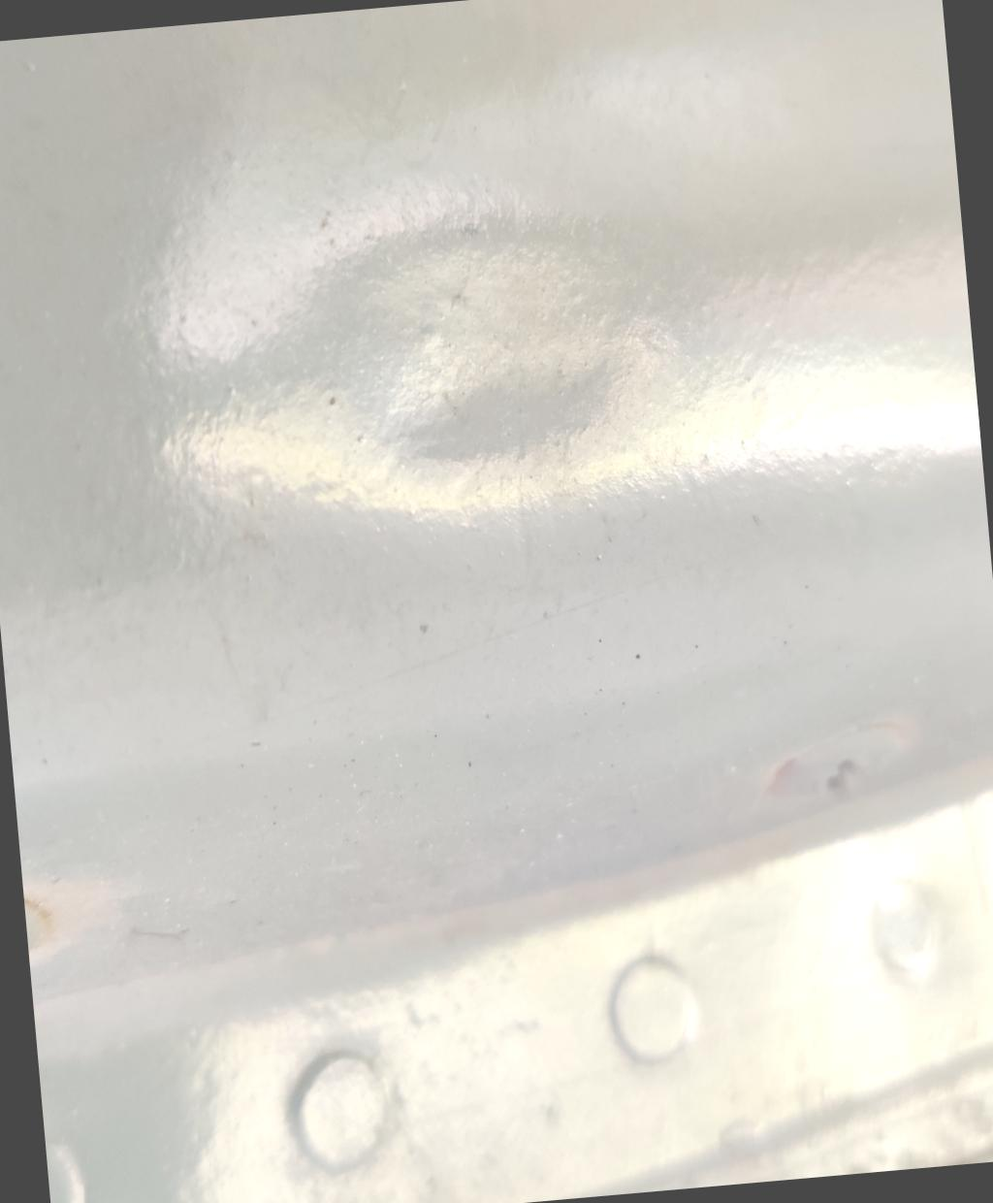dent: (107, 27, 784, 678)
